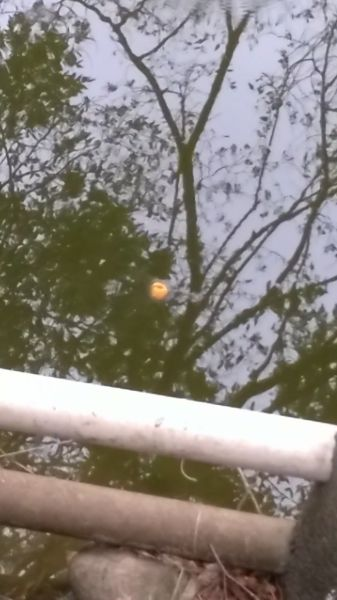eggs: (146, 278, 170, 301)
